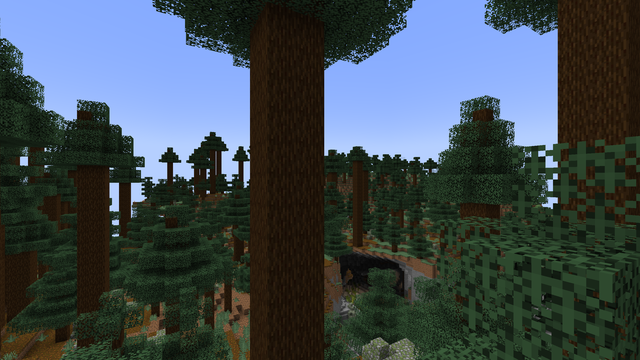slimes: (215, 308, 218, 313)
